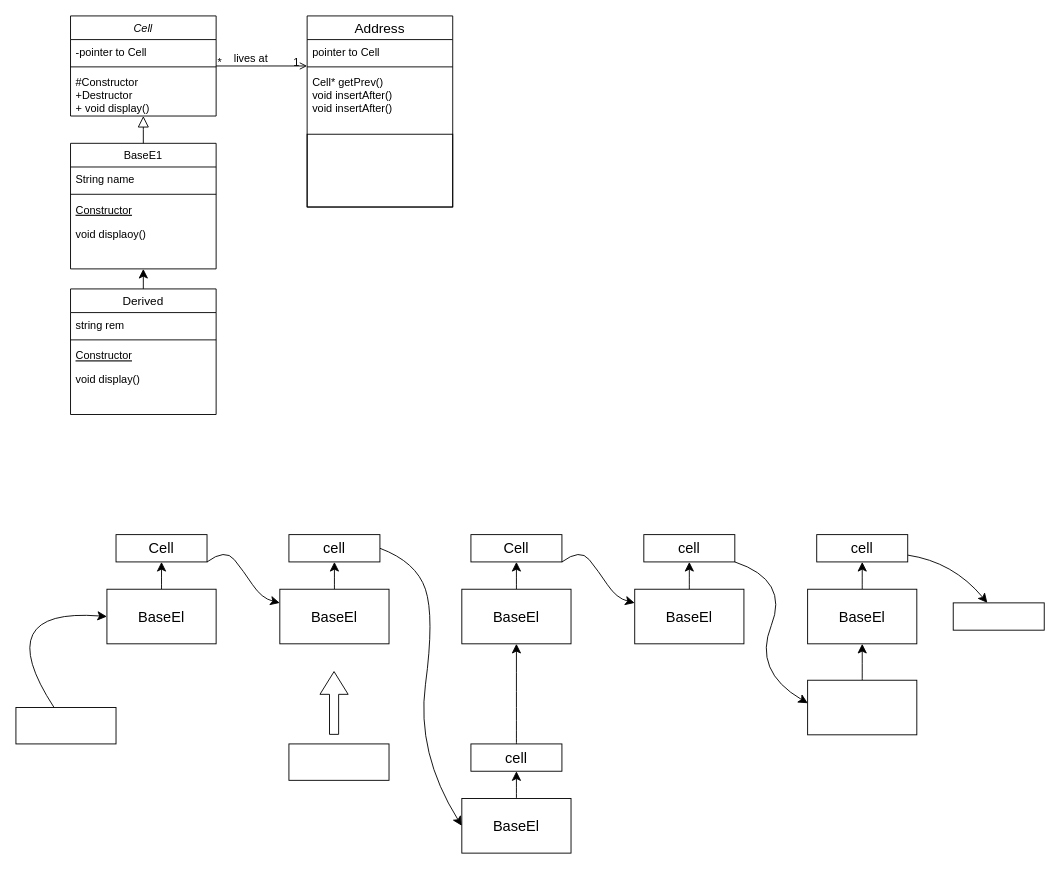
Some shapes in this 1060 by 869 pixel diagram are drawn without their labels. Here are the shapes that lost their labels. From the top down, the centre of each, then its label:
(379,170): void insert() void insert() void displayAll()
(998,616): NULL
(65,725): first
(862,707): DerivedEl
(338,761): prev
